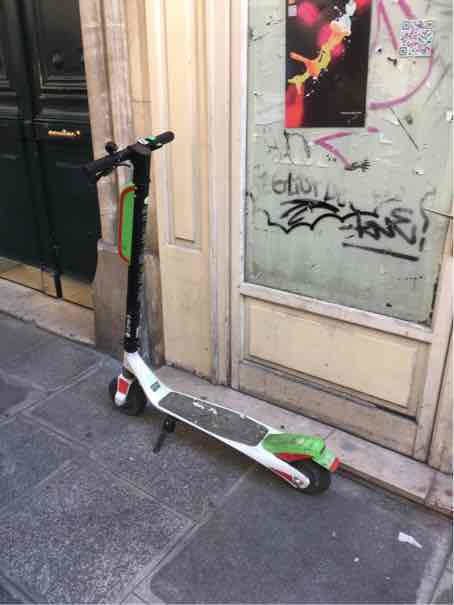scooter: (62, 129, 344, 494)
